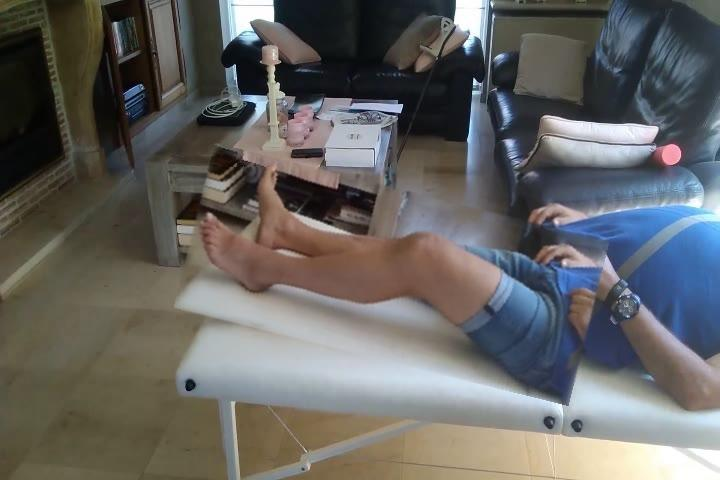lowerbody: (182, 168, 603, 384)
